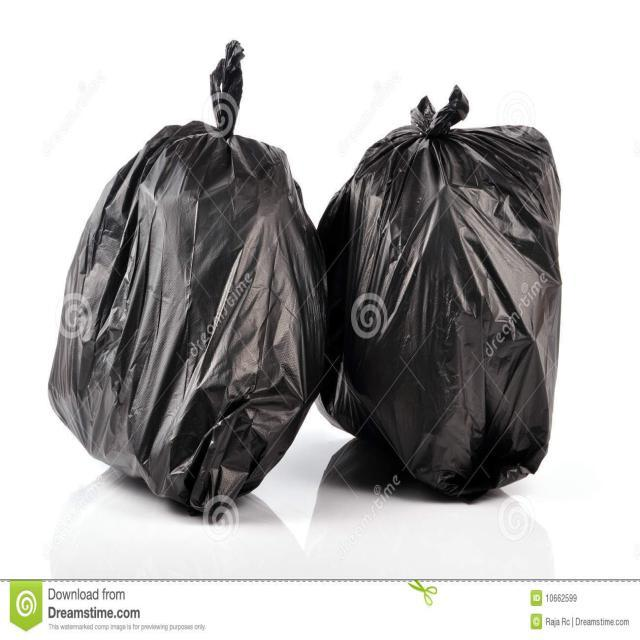Vinyl: (44, 32, 332, 540), (300, 88, 566, 512)
